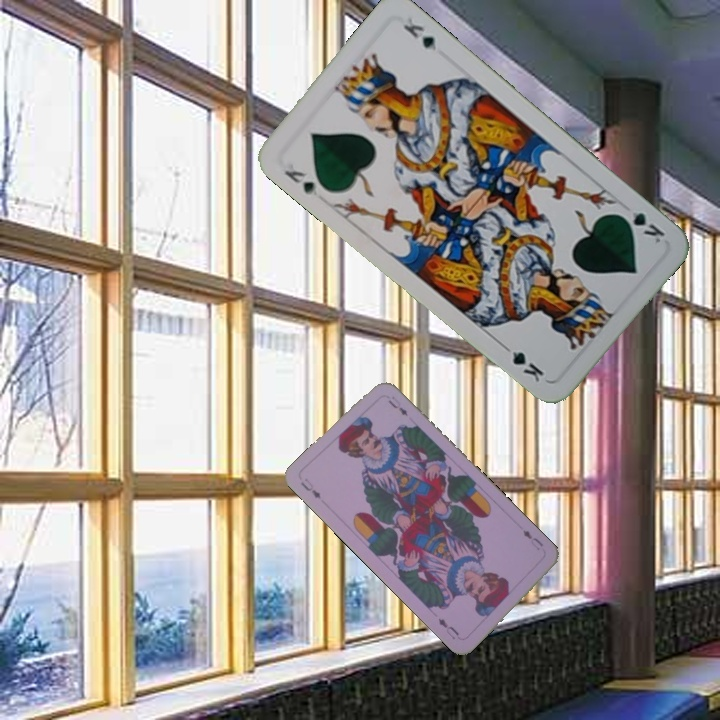EU: (296, 474, 324, 502), (519, 525, 546, 553)
GK: (614, 207, 668, 247), (279, 166, 320, 199)
